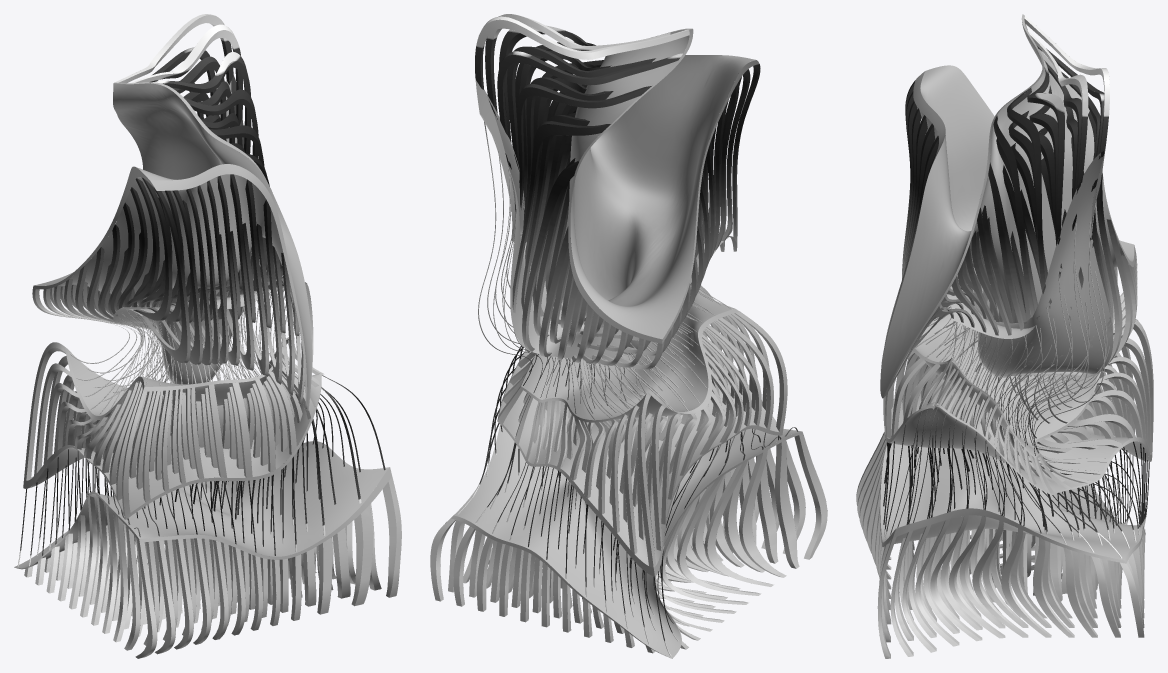
The model's file is chromiebridgeauralsection-gray2-v139.glb.
3 views of the same model, side by side, from view 1: azimuth 30°, elevation 25°; view 2: azimuth 150°, elevation 25°; view 3: azimuth 270°, elevation 25° (orthographic). The views are drawn at different scales.
Visible parts, largest first — view 1: Merged Objects 4, Merged Objects 6; view 2: Merged Objects 4, Merged Objects 6; view 3: Merged Objects 4, Merged Objects 6.
Boxes of the visible parts, x1,y1,x2,y2 form: Merged Objects 4: (17, 14, 401, 658); Merged Objects 6: (14, 75, 392, 569); Merged Objects 4: (430, 14, 827, 656); Merged Objects 6: (450, 28, 803, 658); Merged Objects 4: (856, 16, 1153, 658); Merged Objects 6: (880, 14, 1152, 563).
Size of the model in its own units: 5.42 by 10.43 by 5.18.
Materials: 2 (1 with a texture image).
